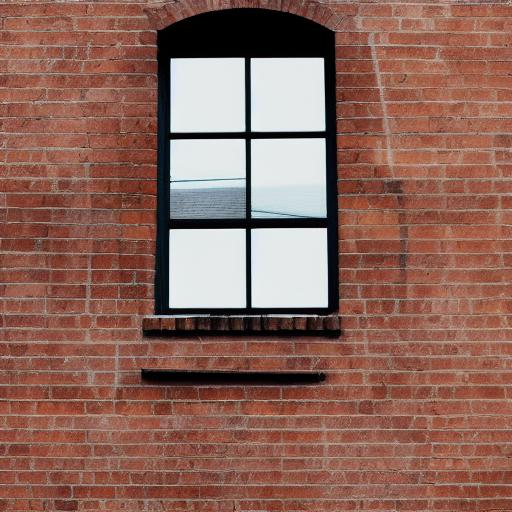Window: (136, 6, 347, 383)
